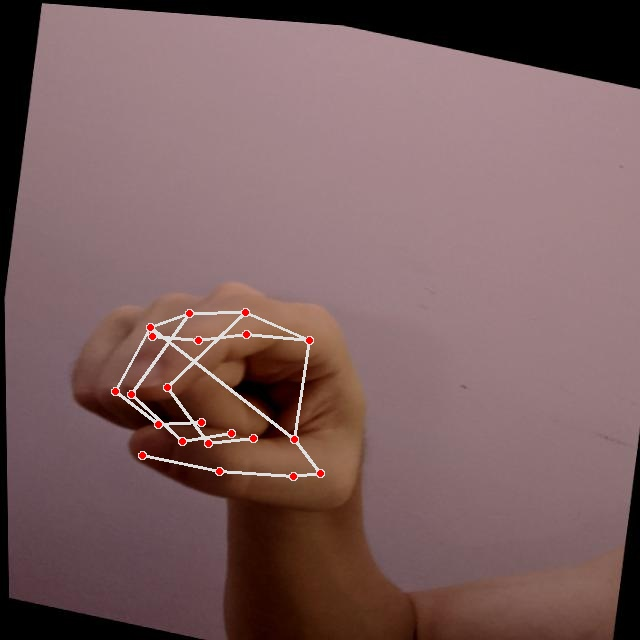Z: (46, 239, 396, 531)
